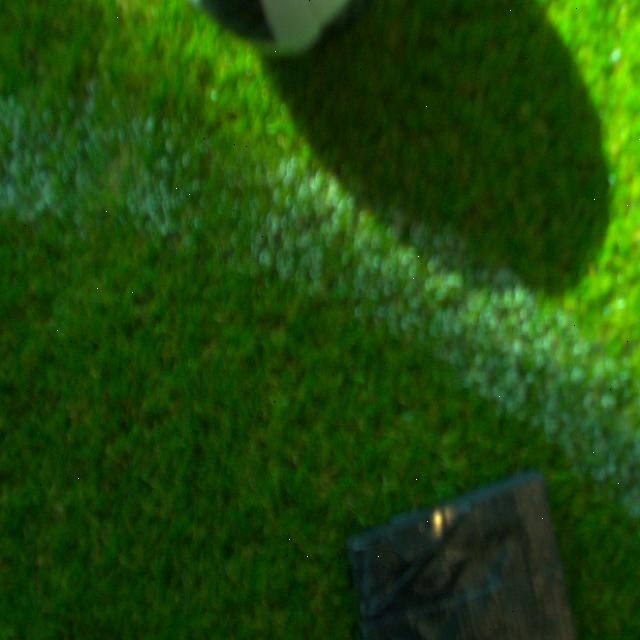ball: (194, 0, 363, 63)
